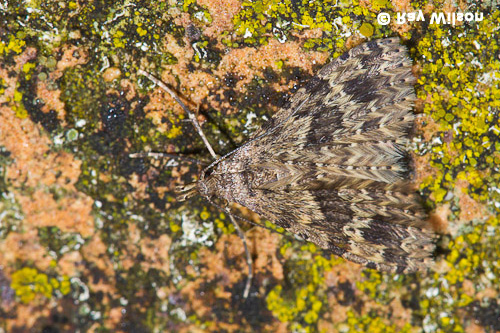Alucitidae: (102, 28, 439, 295)
moth: (104, 30, 441, 297)
